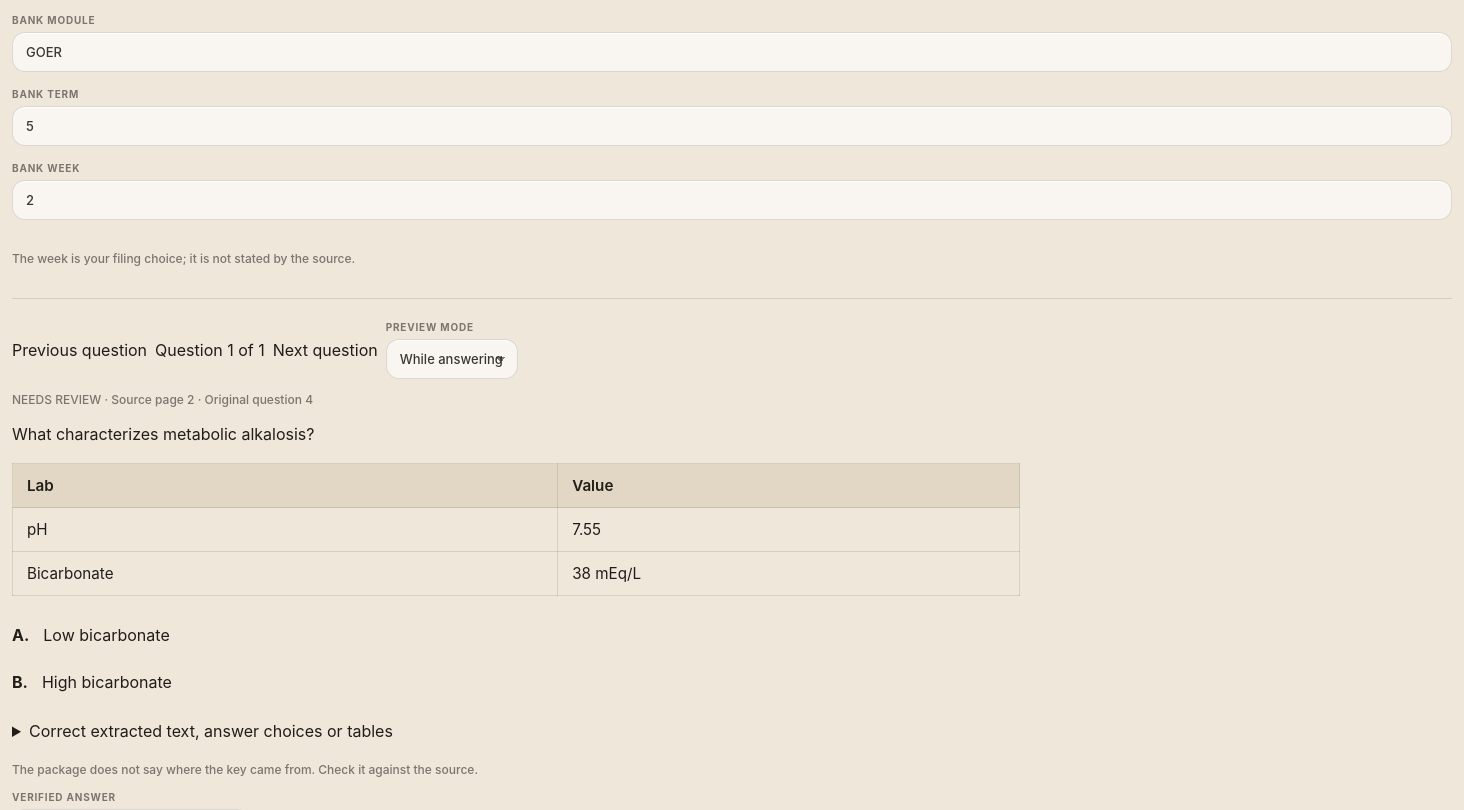
Test case: structured question import review › labels a bare answer letter as an unverified candidate without changing it
(page scrolled)
Expected: the text "Candidate key" is not shown
Select "Source review" in the dropdown labelled "Preview mode": (452, 359) [386, 339, 518, 379]
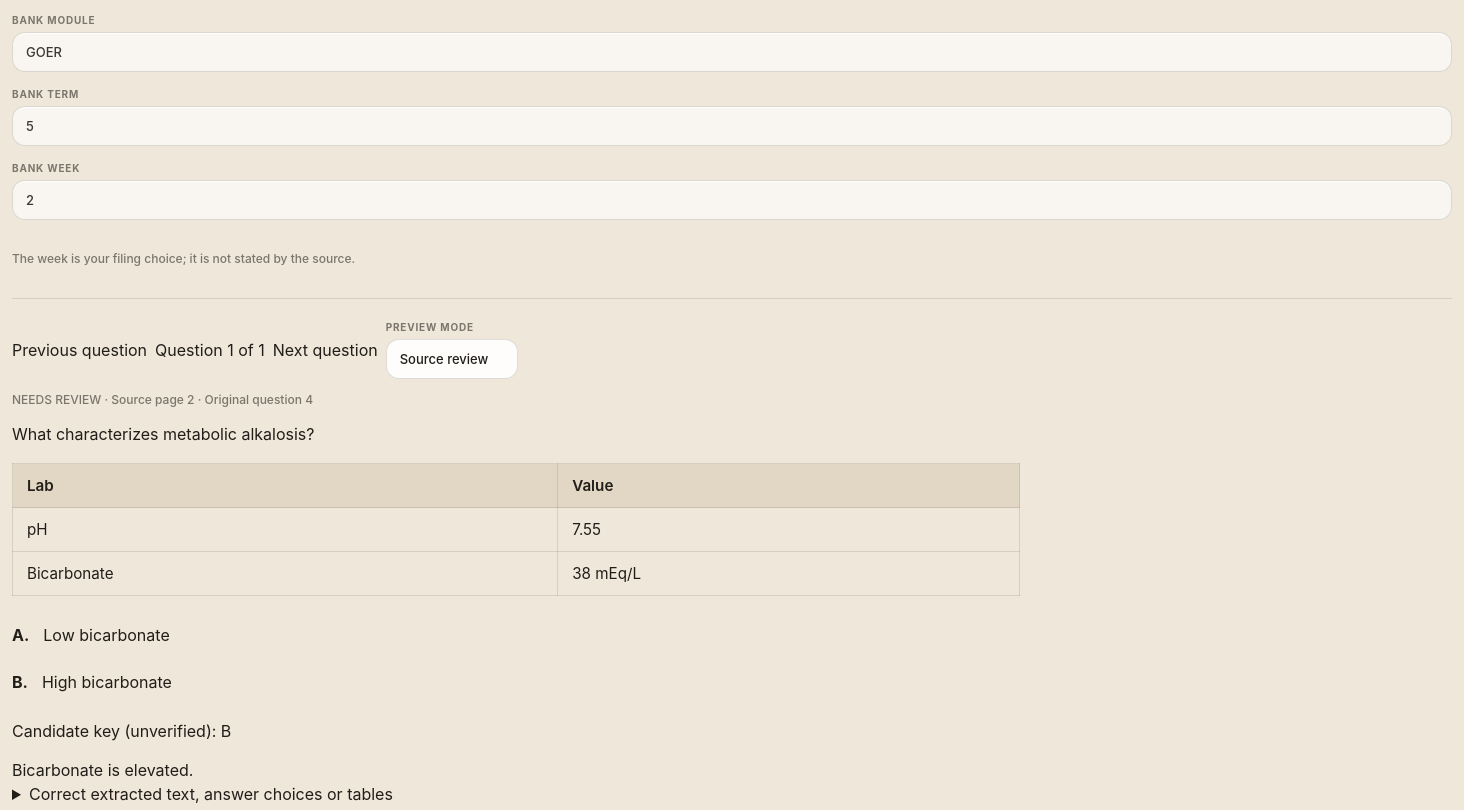
Result: the text "Candidate key (unverified): B" is shown at [12, 721, 231, 741]
